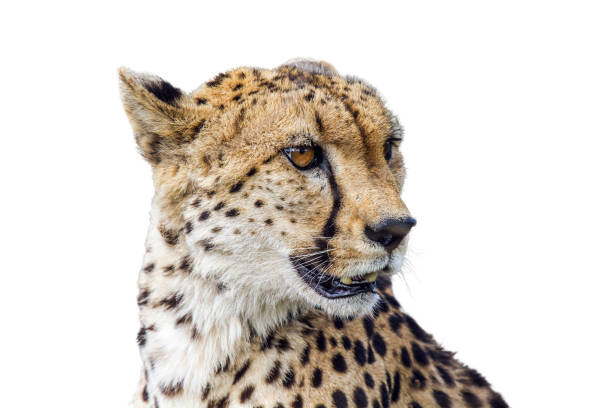cheetah: (101, 37, 448, 338)
